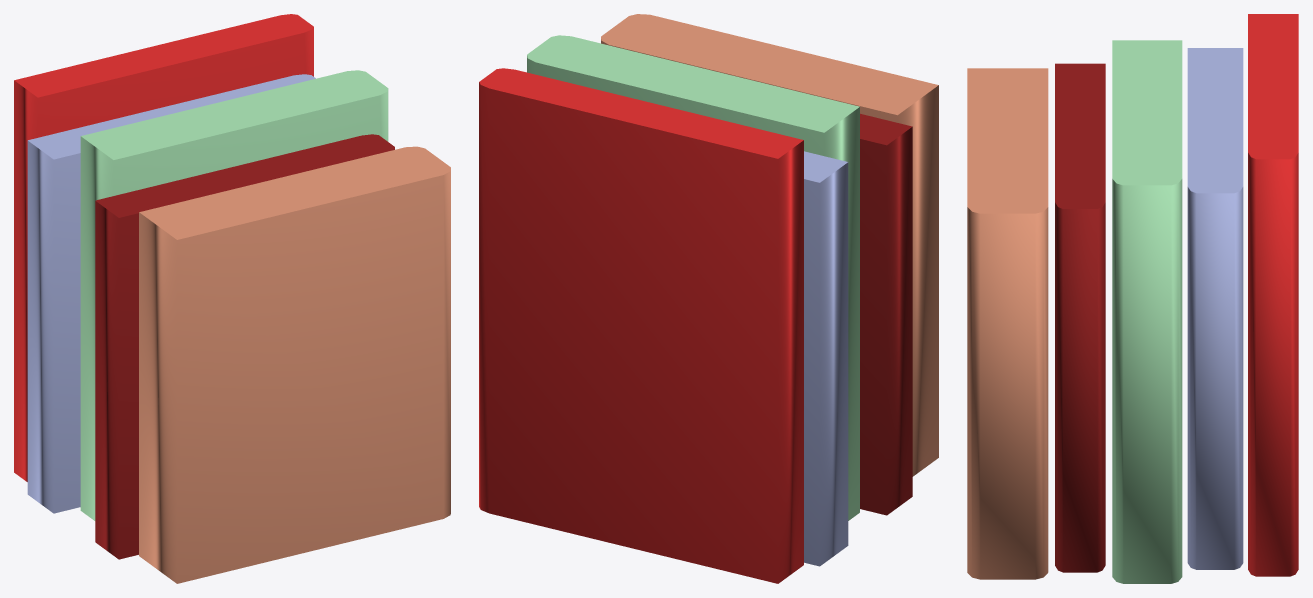
File: books.008.gltf
3 renders of one model, left to right at view 1: azimuth 30°, elevation 25°; view 2: azimuth 150°, elevation 25°; view 3: azimuth 270°, elevation 25°, orthographic. The views are drawn at different scales.
Parts seen in each view (by area): view 1: books.008; view 2: books.008; view 3: books.008.
Boxes of the visible parts, x1,y1,x2,y2 form: books.008: (14, 14, 450, 583); books.008: (479, 14, 938, 583); books.008: (967, 14, 1298, 583).
Bounding box in the file's own units: 1.03 × 1.28 × 0.9164.
